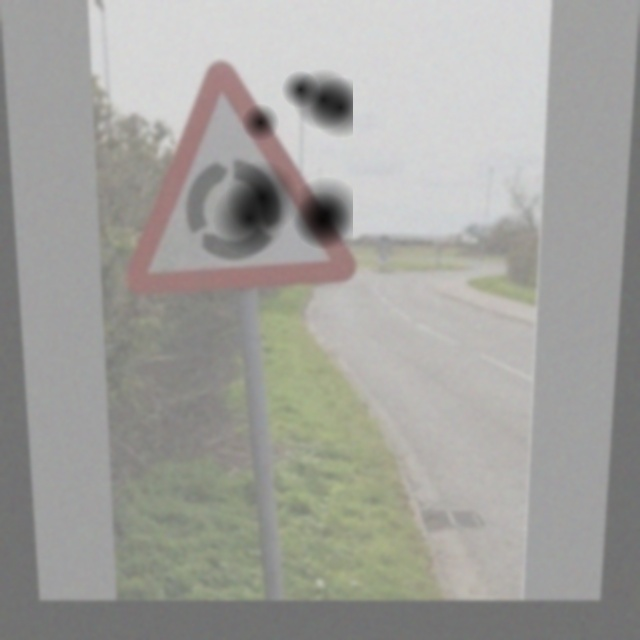Round_About: (130, 59, 353, 284)
